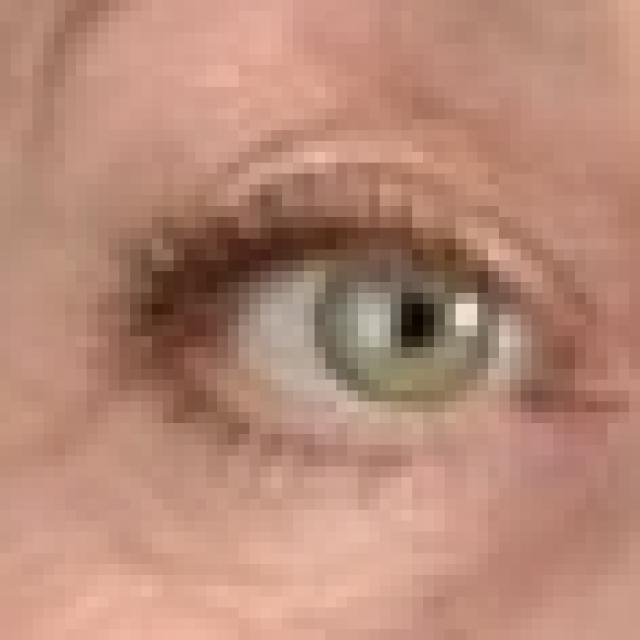eye: (16, 131, 640, 492)
